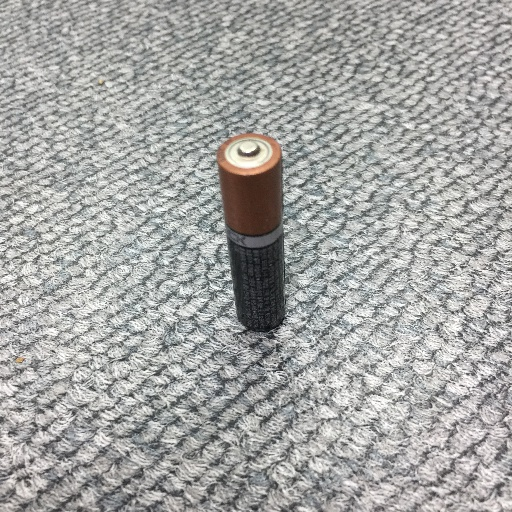Battery_0: (210, 128, 300, 344)
